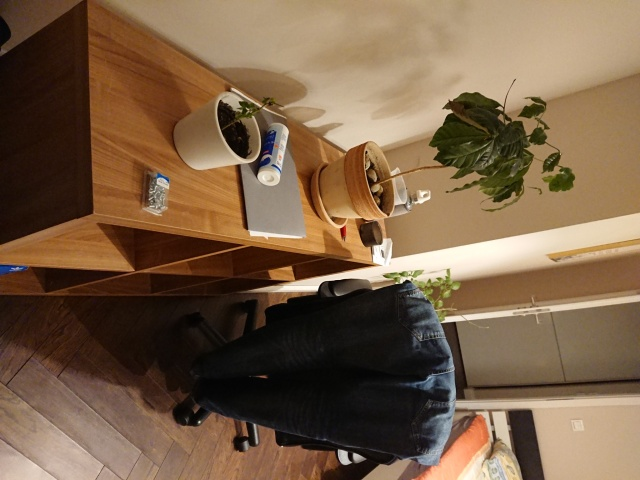Solana Pag Fine Sea Salt 250g: (253, 120, 293, 190)
